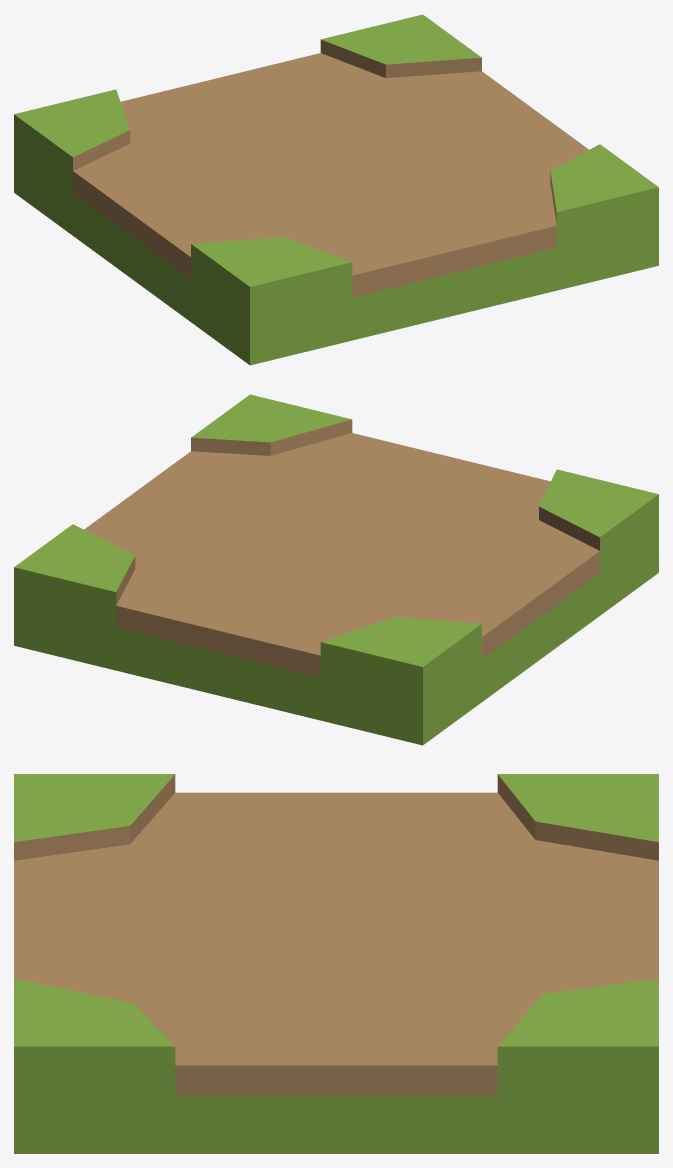
Rendered from dirt-four-way.obj.
3 renders of one model, top to bottom at view 1: azimuth 30°, elevation 25°; view 2: azimuth 150°, elevation 25°; view 3: azimuth 270°, elevation 25°, orthographic. The views are drawn at different scales.
Visible parts, largest first — view 1: Mesh1_Group1_Model.013; view 2: Mesh1_Group1_Model.013; view 3: Mesh1_Group1_Model.013.
Boxes of the visible parts, left/top/right/bottom form: Mesh1_Group1_Model.013: left=14, top=14, right=658, bottom=365; Mesh1_Group1_Model.013: left=14, top=394, right=658, bottom=745; Mesh1_Group1_Model.013: left=14, top=774, right=658, bottom=1153.
Size of the model in its own units: 3 by 0.55 by 3.
